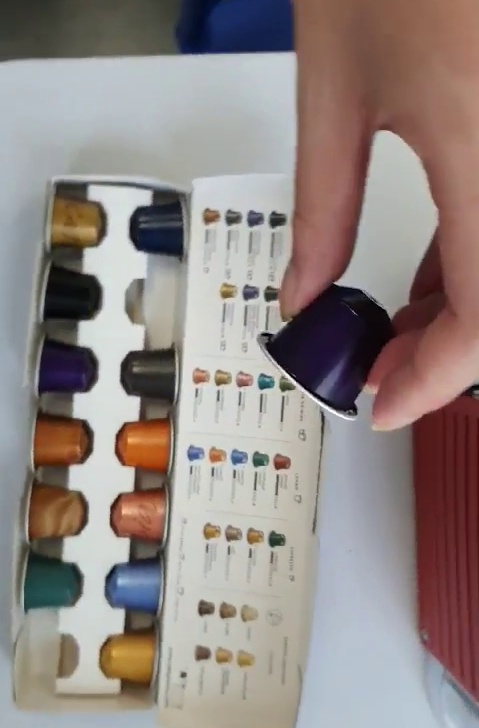capsule_2: (255, 280, 402, 425)
